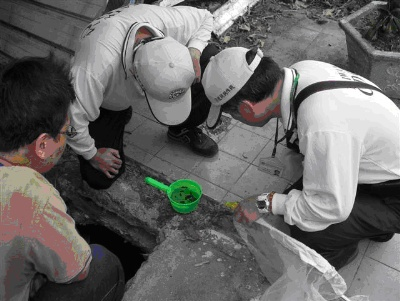bowl: (167, 178, 203, 215)
